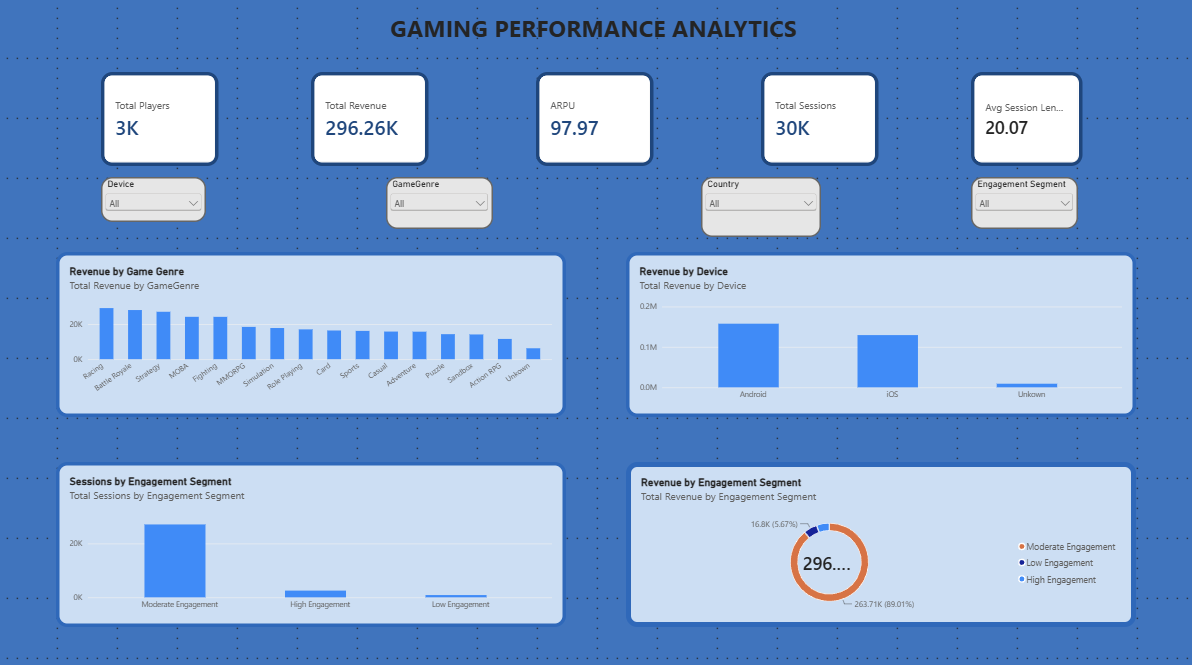

What the dashboard file says about the page in this screenshot:
{"tool":"powerbi","page":{"name":"Page 1","canvas":[1920,1080],"ordinal":0},"visuals":[{"type":"textbox","box":[600,24,840,72],"z":0},{"type":"cardVisual","fields":{"Data":["GamingData.Total Players"]},"box":[168,120,188,150],"z":1002},{"type":"cardVisual","fields":{"Data":["GamingData.Total Revenue"]},"box":[504,120,188,150],"z":1003},{"type":"cardVisual","fields":{"Data":["GamingData.ARPU"]},"box":[864,120,188,150],"z":1004},{"type":"cardVisual","fields":{"Data":["GamingData.Total Sessions"]},"box":[1224,120,188,150],"z":1005},{"type":"cardVisual","fields":{"Data":["GamingData.Avg Session Length"]},"box":[1560,120,178,150],"z":1006},{"type":"clusteredColumnChart","title":"Revenue by Game Genre","fields":{"Category":["GamingData.GameGenre"],"Y":["GamingData.Total Revenue"]},"box":[96,408,816,264],"z":1007},{"type":"clusteredColumnChart","title":"Revenue by Device","fields":{"Category":["GamingData.Device"],"Y":["GamingData.Total Revenue"]},"box":[1008,408,816,264],"z":1008},{"type":"clusteredColumnChart","title":"Sessions by Engagement Segment","fields":{"Category":["GamingData.Engagement Segment"],"Y":["GamingData.Total Sessions"]},"box":[96,744,816,264],"z":1009},{"type":"donutChart","title":"Revenue by Engagement Segment","fields":{"Category":["GamingData.Engagement Segment"],"Y":["GamingData.Total Revenue"]},"box":[1008,744,816,264],"z":1010},{"type":"slicer","fields":{"Values":["GamingData.Device"]},"box":[168,288,168,72],"z":1011},{"type":"slicer","fields":{"Values":["GamingData.GameGenre"]},"box":[624,288,170.8,83.3],"z":1012},{"type":"slicer","fields":{"Values":["GamingData.Country"]},"box":[1128,288,192,96],"z":1013},{"type":"slicer","fields":{"Values":["GamingData.Engagement Segment"]},"box":[1560,288,170.8,83.3],"z":1014}]}

Visuals, with their boxes in screenshot pixels (x1, y1, x2, y2), scaled from the page's 1920x1080 canvas onto the 1192x665 screenshot:
textbox: (x1=372, y1=15, x2=894, y2=59)
cardVisual - GamingData.Total Players: (x1=104, y1=74, x2=221, y2=166)
cardVisual - GamingData.Total Revenue: (x1=313, y1=74, x2=430, y2=166)
cardVisual - GamingData.ARPU: (x1=536, y1=74, x2=653, y2=166)
cardVisual - GamingData.Total Sessions: (x1=760, y1=74, x2=877, y2=166)
cardVisual - GamingData.Avg Session Length: (x1=968, y1=74, x2=1079, y2=166)
"Revenue by Game Genre" clusteredColumnChart: (x1=60, y1=251, x2=566, y2=414)
"Revenue by Device" clusteredColumnChart: (x1=626, y1=251, x2=1132, y2=414)
"Sessions by Engagement Segment" clusteredColumnChart: (x1=60, y1=458, x2=566, y2=621)
"Revenue by Engagement Segment" donutChart: (x1=626, y1=458, x2=1132, y2=621)
slicer - GamingData.Device: (x1=104, y1=177, x2=209, y2=222)
slicer - GamingData.GameGenre: (x1=387, y1=177, x2=493, y2=229)
slicer - GamingData.Country: (x1=700, y1=177, x2=820, y2=236)
slicer - GamingData.Engagement Segment: (x1=968, y1=177, x2=1075, y2=229)
